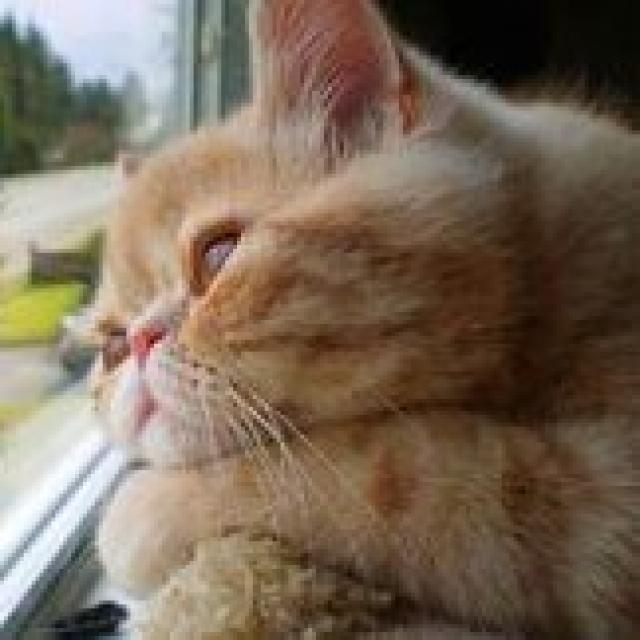Sad: (61, 206, 316, 485)
